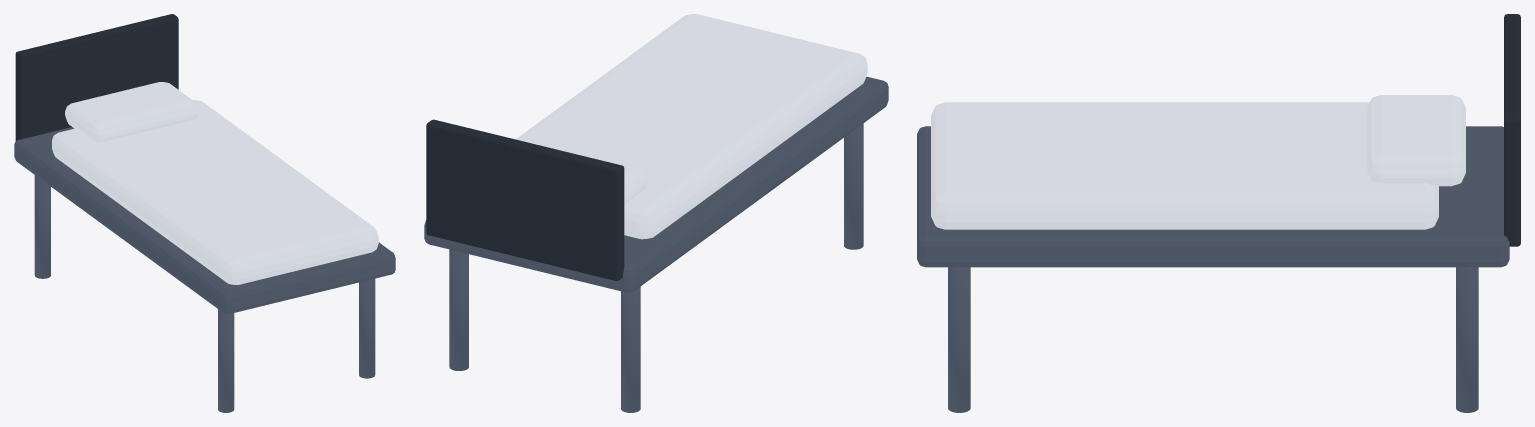
Rendered from camilla.glb.
The picture shows the model from 3 angles, left to right: view 1: azimuth 30°, elevation 25°; view 2: azimuth 150°, elevation 25°; view 3: azimuth 270°, elevation 25°; orthographic projection. The views are drawn at different scales.
Parts seen in each view (by area): view 1: Cube.088, Cube.090, Cube.087, Cube.089, Cylinder.051, Cylinder.052, Cylinder.053; view 2: Cube.088, Cube.090, Cube.087, Cylinder.052, Cylinder.051, Cylinder.054, Cube.089; view 3: Cube.088, Cube.087, Cube.089, Cube.090, Cylinder.053, Cylinder.054.
Part boxes in pixels (<box>): Cube.088: <box>52,100,378,284</box>; Cube.090: <box>15,14,178,140</box>; Cube.087: <box>14,127,395,313</box>; Cube.089: <box>65,82,198,142</box>; Cylinder.051: <box>218,309,234,412</box>; Cylinder.052: <box>34,175,50,278</box>; Cylinder.053: <box>359,278,375,378</box>; Cube.088: <box>516,14,867,239</box>; Cube.090: <box>426,119,624,280</box>; Cube.087: <box>424,76,888,292</box>; Cylinder.052: <box>621,286,640,412</box>; Cylinder.051: <box>844,123,863,249</box>; Cylinder.054: <box>449,249,468,370</box>; Cube.089: <box>525,140,648,204</box>; Cube.088: <box>931,102,1438,229</box>; Cube.087: <box>917,126,1509,267</box>; Cube.089: <box>1367,95,1465,186</box>; Cube.090: <box>1504,14,1520,246</box>; Cylinder.053: <box>948,267,970,412</box>; Cylinder.054: <box>1456,267,1478,412</box>.
Size of the model in its own units: 0.98 by 1.15 by 2.14.
